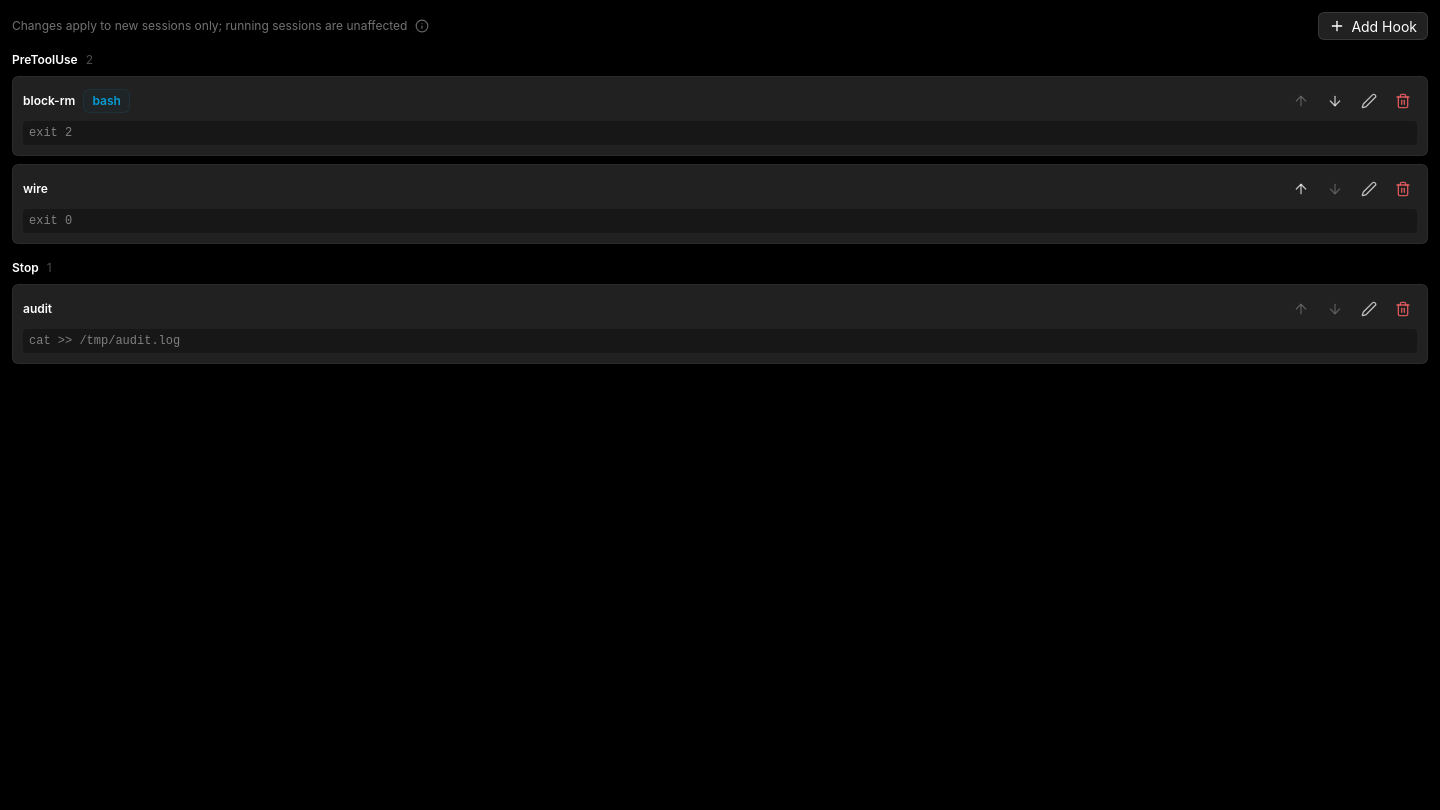
it: HooksSettings › 新增 Hook 后保存提交规范化配置
Expected: the text "audit" is shown, [23,301,52,317]
Click the button "Add Hook". click: point(1373, 26)
box: [1318,12,1428,40]
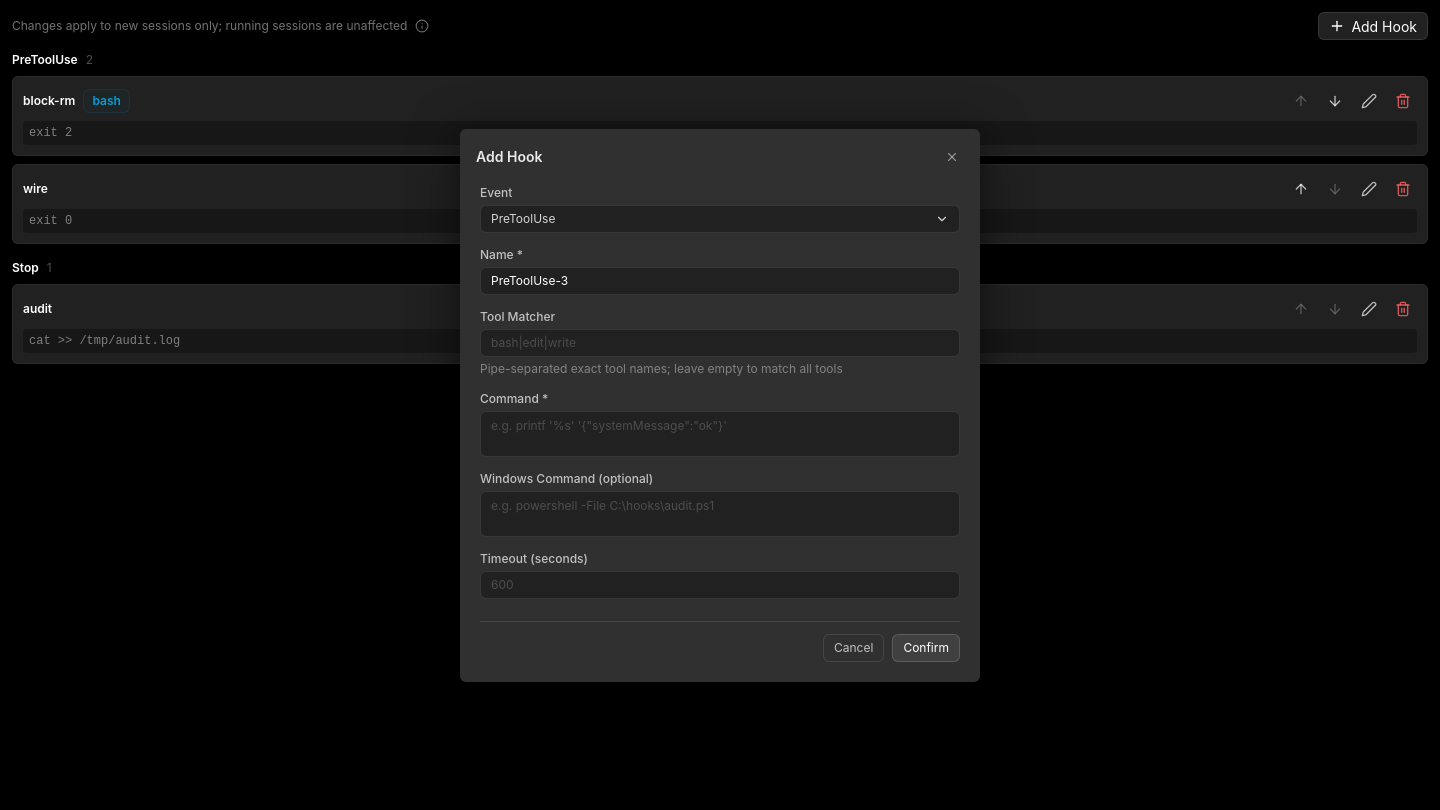
Replace the text in the field with placeholder "e.g. block-rm-rf" with "new-hook". click: point(720, 280)
box: [491,272,949,288]
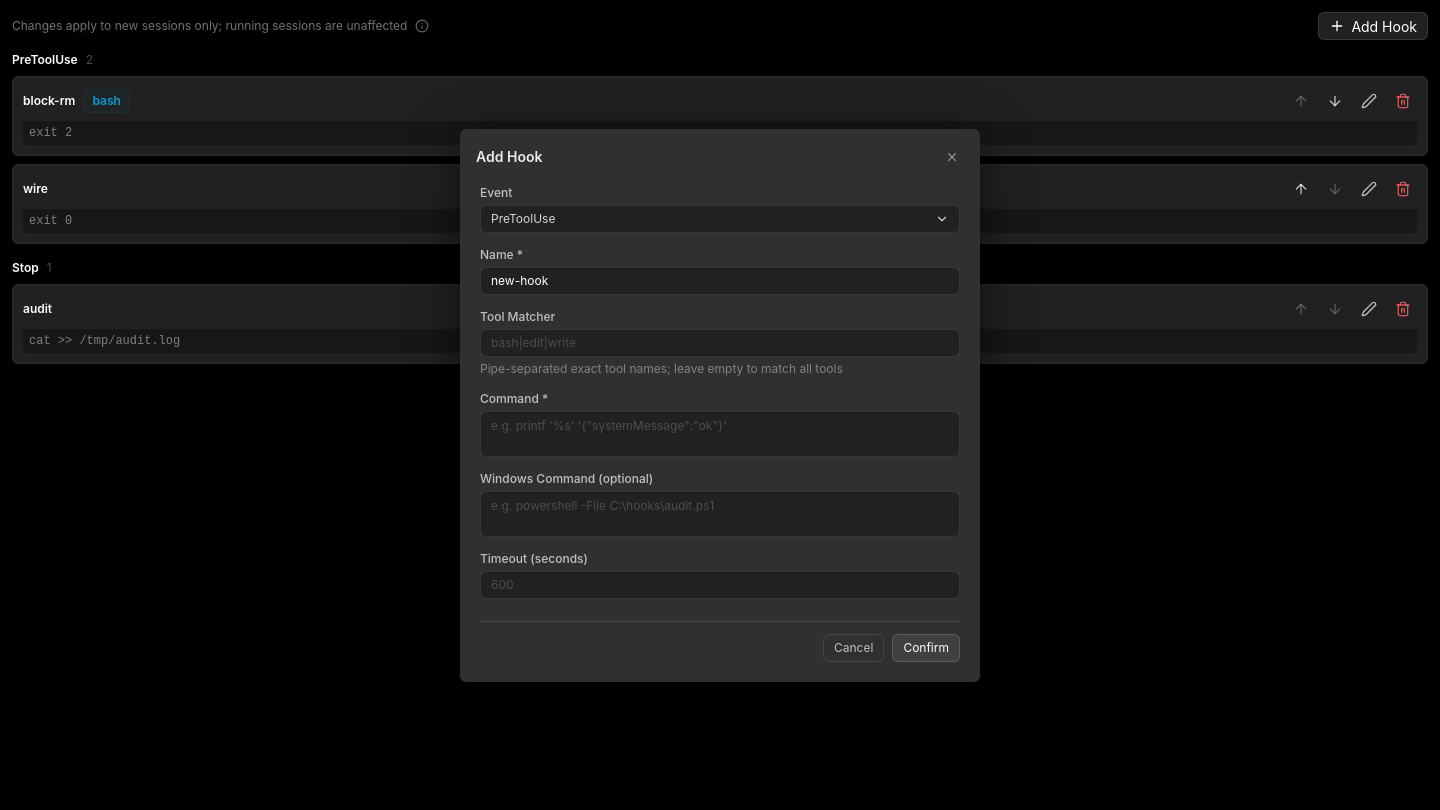
Type "echo hi" into the text box with placeholder "e.g. printf '%s' '{\"systemMessage\":\"ok\"}'". click: point(720, 434)
box: [491,418,949,450]
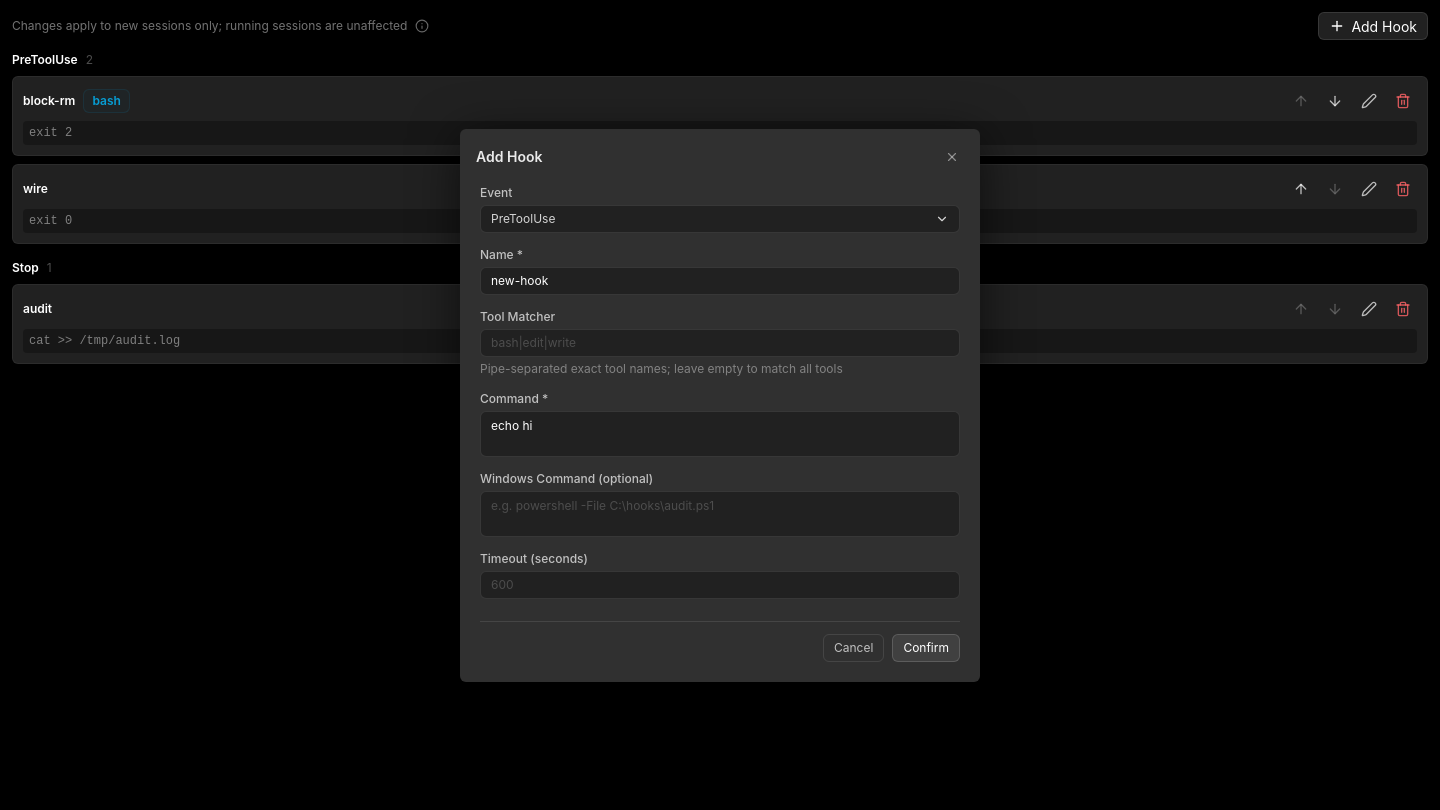
Click the button "Confirm". click: point(926, 648)
box: [892,634,960,662]
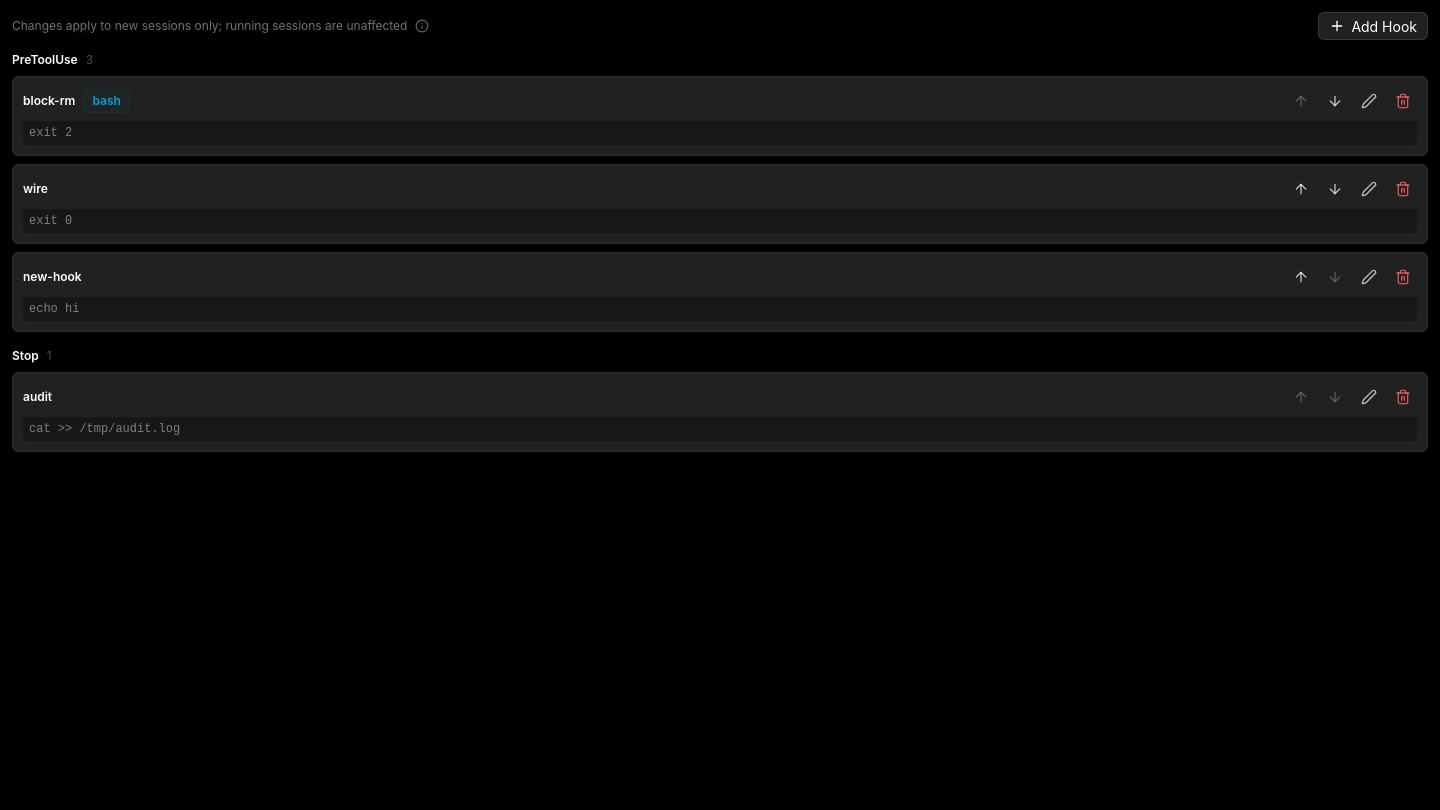
Expected: the text "new-hook" is shown, [23,269,82,285]
